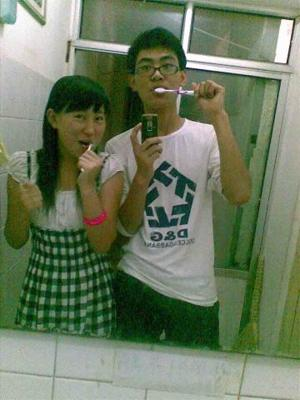person: (3, 75, 124, 343)
